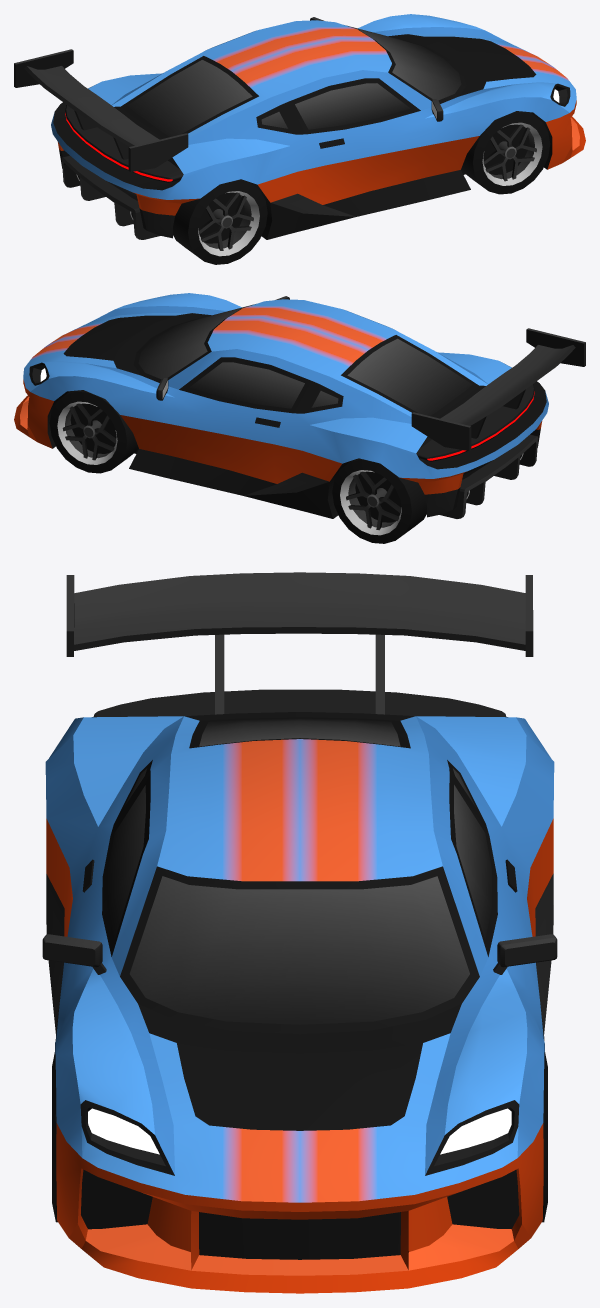
The model's file is RaceCar_060.glb.
3 renders of one model, top to bottom at view 1: azimuth 30°, elevation 25°; view 2: azimuth 150°, elevation 25°; view 3: azimuth 270°, elevation 25°, orthographic. The views are drawn at different scales.
Parts seen in each view (by area): view 1: RaceCar_060, wheel_3_RaceCar_060_Wheel_2R, wheel_1_RaceCar_060_Wheel_1R; view 2: RaceCar_060, wheel_2_RaceCar_060_Wheel_2L, wheel_0_RaceCar_060_Wheel_1L; view 3: RaceCar_060.
Part boxes in pixels (x1,y1,x2,y2): RaceCar_060: [14, 14, 585, 239]; wheel_3_RaceCar_060_Wheel_2R: [173, 179, 267, 264]; wheel_1_RaceCar_060_Wheel_1R: [461, 111, 550, 194]; RaceCar_060: [14, 293, 585, 518]; wheel_2_RaceCar_060_Wheel_2L: [332, 458, 426, 543]; wheel_0_RaceCar_060_Wheel_1L: [49, 390, 138, 473]; RaceCar_060: [42, 572, 557, 1293].
Bounding box in the file's own units: 4.69 × 1.27 × 2.13.
Materials: 3 (3 with a texture image).
